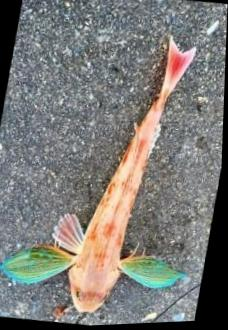fish: (3, 38, 195, 314)
